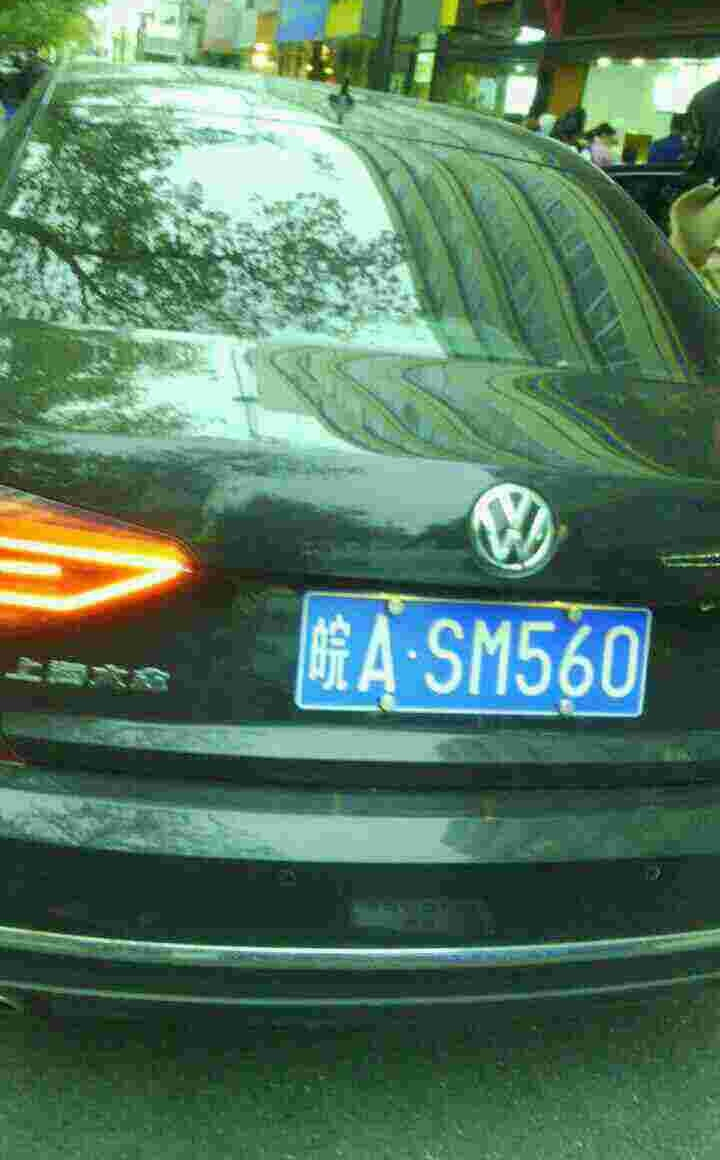license_plate: (301, 594, 637, 723)
